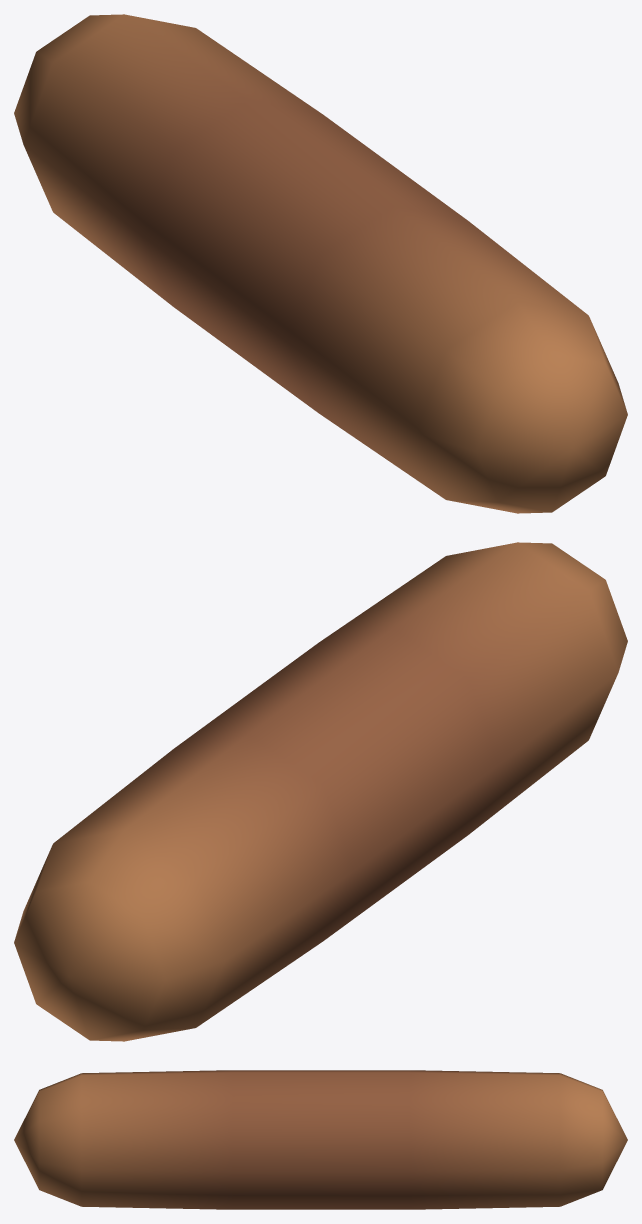
Rendered from microscopic-bacteria-club-bacterium_v2.glb.
3 views of the same model, one above another, from view 1: azimuth 30°, elevation 25°; view 2: azimuth 150°, elevation 25°; view 3: azimuth 270°, elevation 25° (orthographic). The views are drawn at different scales.
Parts seen in each view (by area): view 1: Club Bacterium_v2; view 2: Club Bacterium_v2; view 3: Club Bacterium_v2.
Part boxes in pixels (box(x1,y1,x2,y2)): Club Bacterium_v2: box(14, 14, 627, 513); Club Bacterium_v2: box(14, 542, 627, 1041); Club Bacterium_v2: box(14, 1070, 627, 1209).
Size of the model in its own units: 0.121 by 0.121 by 0.5.
